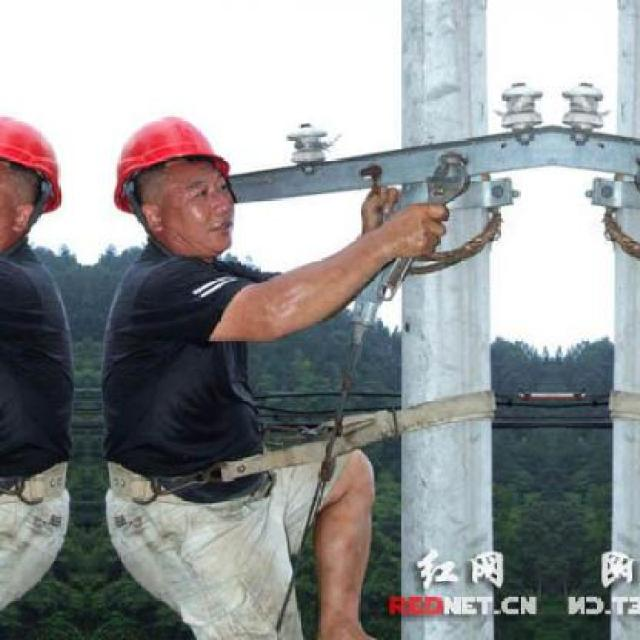helmet: (96, 89, 252, 271), (0, 90, 77, 272)
